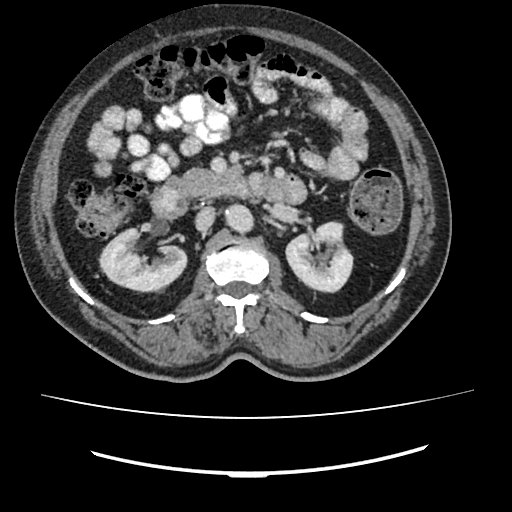aorta: (223, 202, 255, 237)
